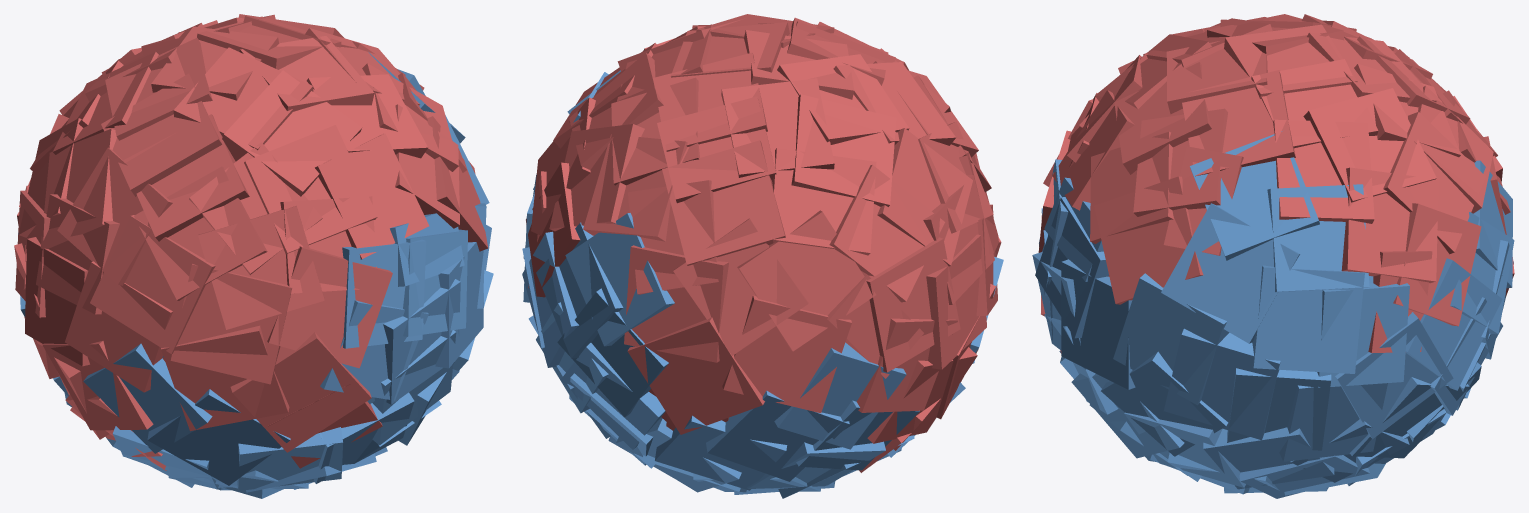
File: output_cuboids.glb
The picture shows the model from 3 angles, left to right: view 1: azimuth 30°, elevation 25°; view 2: azimuth 150°, elevation 25°; view 3: azimuth 270°, elevation 25°; orthographic projection.
Visible parts, largest first — view 1: cuboid_36, cuboid_59, cuboid_76, cuboid_8, cuboid_15, cuboid_66, cuboid_98, cuboid_67, cuboid_104, cuboid_109, cuboid_1, cuboid_65 (+44 smaller); view 2: cuboid_32, cuboid_90, cuboid_0, cuboid_71, cuboid_29, cuboid_74, cuboid_107, cuboid_63, cuboid_96, cuboid_97, cuboid_77, cuboid_79 (+43 smaller); view 3: cuboid_23, cuboid_33, cuboid_75, cuboid_27, cuboid_93, cuboid_81, cuboid_123, cuboid_82, cuboid_14, cuboid_47, cuboid_3, cuboid_48 (+49 smaller).
Boxes of the visible parts, left/top/right/bottom form: cuboid_36: left=230, top=332, right=371, bottom=452; cuboid_59: left=90, top=215, right=215, bottom=354; cuboid_76: left=267, top=246, right=392, bottom=368; cuboid_8: left=244, top=125, right=377, bottom=254; cuboid_15: left=170, top=264, right=292, bottom=384; cuboid_66: left=315, top=133, right=429, bottom=259; cuboid_98: left=222, top=70, right=361, bottom=196; cuboid_67: left=101, top=73, right=222, bottom=196; cuboid_104: left=198, top=206, right=324, bottom=329; cuboid_109: left=161, top=325, right=289, bottom=431; cuboid_1: left=147, top=389, right=290, bottom=485; cuboid_65: left=65, top=261, right=172, bottom=392; cuboid_32: left=737, top=210, right=876, bottom=351; cuboid_90: left=627, top=317, right=764, bottom=434; cuboid_0: left=722, top=295, right=851, bottom=413; cuboid_71: left=662, top=140, right=785, bottom=265; cuboid_29: left=791, top=94, right=896, bottom=206; cuboid_74: left=624, top=245, right=728, bottom=362; cuboid_107: left=721, top=78, right=834, bottom=177; cuboid_63: left=771, top=148, right=876, bottom=255; cuboid_96: left=565, top=213, right=674, bottom=346; cuboid_97: left=673, top=218, right=808, bottom=355; cuboid_77: left=829, top=165, right=944, bottom=302; cuboid_79: left=866, top=237, right=960, bottom=372; cuboid_23: left=1252, top=265, right=1364, bottom=373; cuboid_33: left=1161, top=203, right=1299, bottom=343; cuboid_75: left=1094, top=176, right=1203, bottom=304; cuboid_27: left=1164, top=328, right=1280, bottom=440; cuboid_93: left=1341, top=167, right=1438, bottom=283; cuboid_81: left=1113, top=273, right=1229, bottom=405; cuboid_123: left=1273, top=119, right=1374, bottom=223; cuboid_82: left=1190, top=131, right=1319, bottom=260; cuboid_14: left=1267, top=184, right=1369, bottom=292; cuboid_47: left=1182, top=70, right=1295, bottom=176; cuboid_3: left=1303, top=88, right=1436, bottom=202; cuboid_48: left=1061, top=259, right=1135, bottom=389.
Size of the model in its own units: 4.59 by 4.57 by 4.57.
